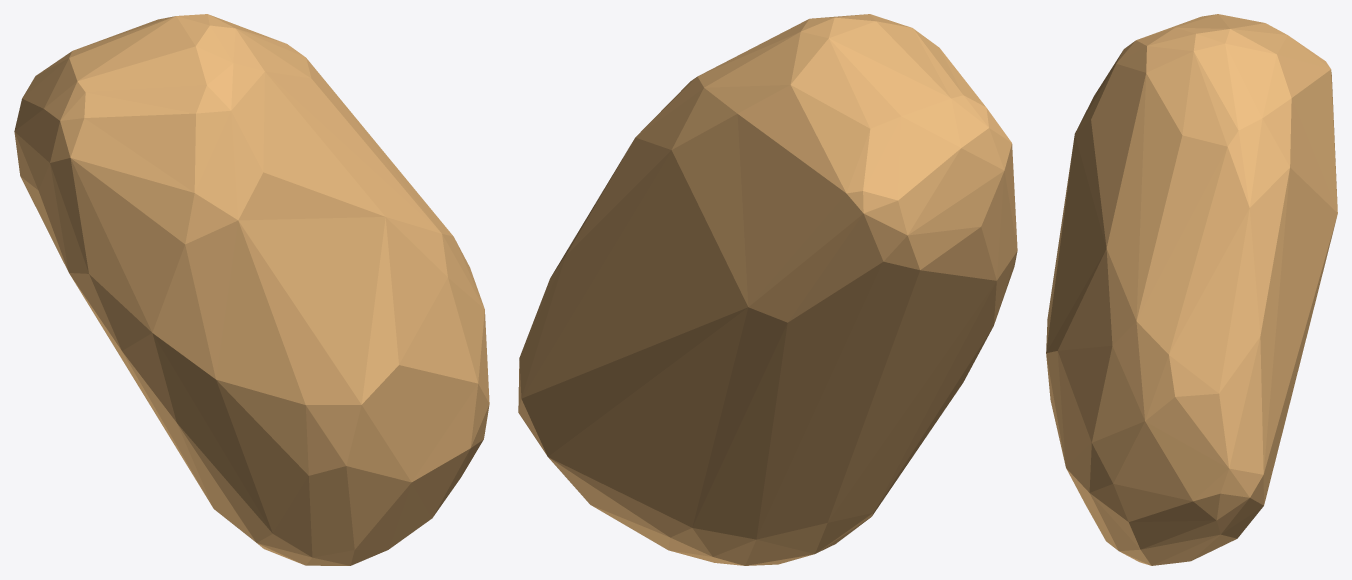
The model's file is citrinitas.gltf.
The picture shows the model from 3 angles, left to right: view 1: azimuth 30°, elevation 25°; view 2: azimuth 150°, elevation 25°; view 3: azimuth 270°, elevation 25°; orthographic projection. The views are drawn at different scales.
Parts seen in each view (by area): view 1: citrinitas; view 2: citrinitas; view 3: citrinitas.
Boxes of the visible parts, x1=… form: citrinitas: x1=14, y1=14, x2=489, y2=565; citrinitas: x1=518, y1=14, x2=1017, y2=565; citrinitas: x1=1046, y1=14, x2=1337, y2=565.
Size of the model in its own units: 4.41 by 5.26 by 2.95.
